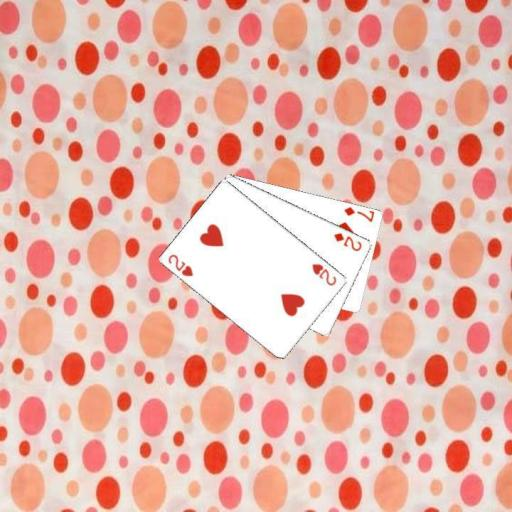card-corner: (308, 260, 338, 288), (165, 251, 195, 278), (340, 204, 376, 224), (331, 230, 363, 252)
